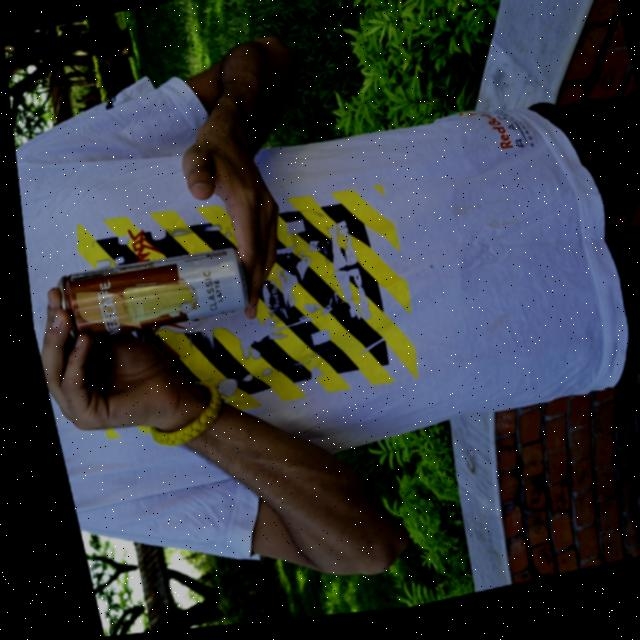Nescafe Classic Iced Latte: (45, 237, 246, 354)
